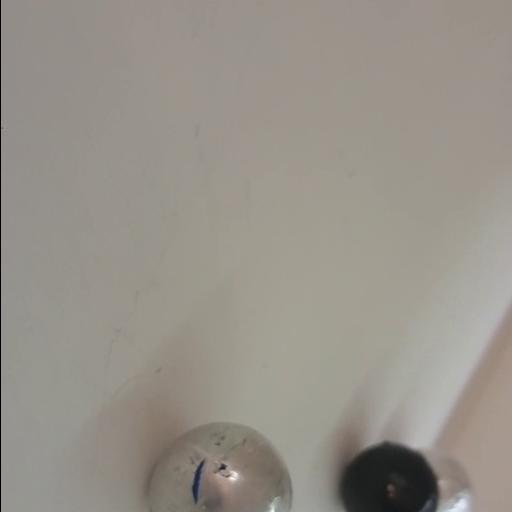alive: (144, 420, 291, 510), (422, 452, 472, 510)
dead: (340, 441, 438, 511)
